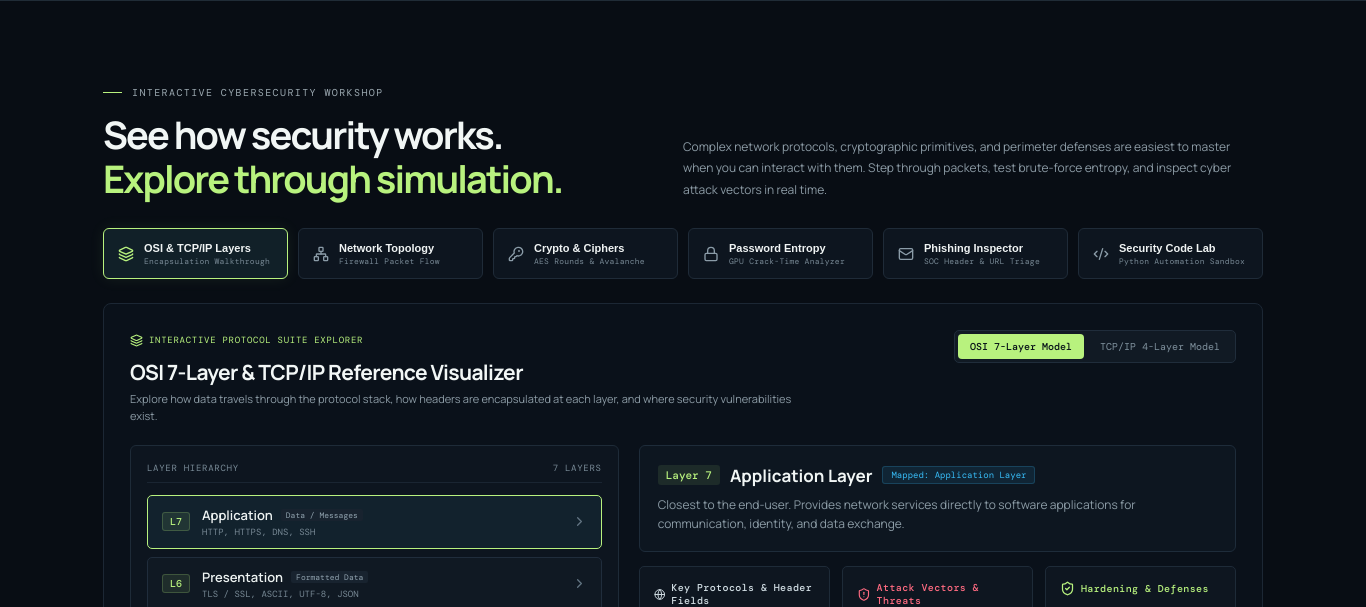
Test: Phase 7: Interactive Visualizers & Learning Experiences › InteractiveVisualizersSection renders all visualizer tabs and allows tab switching
Expected: the text "OSI & TCP/IP Layers" is shown, [144, 242, 251, 254]
Expected: the text "Network Topology" is shown, [339, 241, 440, 256]
// Switch to Password Entropy
Click the tab "Password Entropy GPU Crack-Time Analyzer": (780, 254) [688, 228, 873, 279]
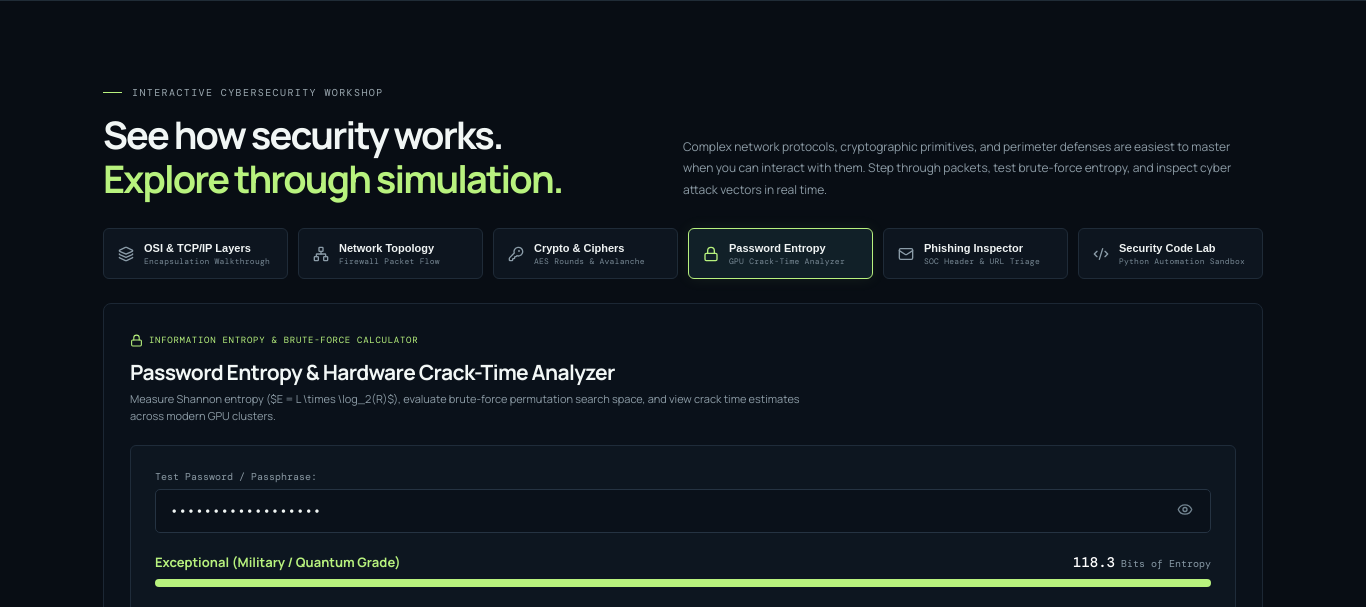
Result: the heading "Password Entropy & Hardware Crack-Time Analyzer" is shown at [130, 358, 615, 386]
// Switch to Phishing Inspector
Click the tab "Phishing Inspector SOC Header & URL Triage": (976, 254) [883, 228, 1068, 279]
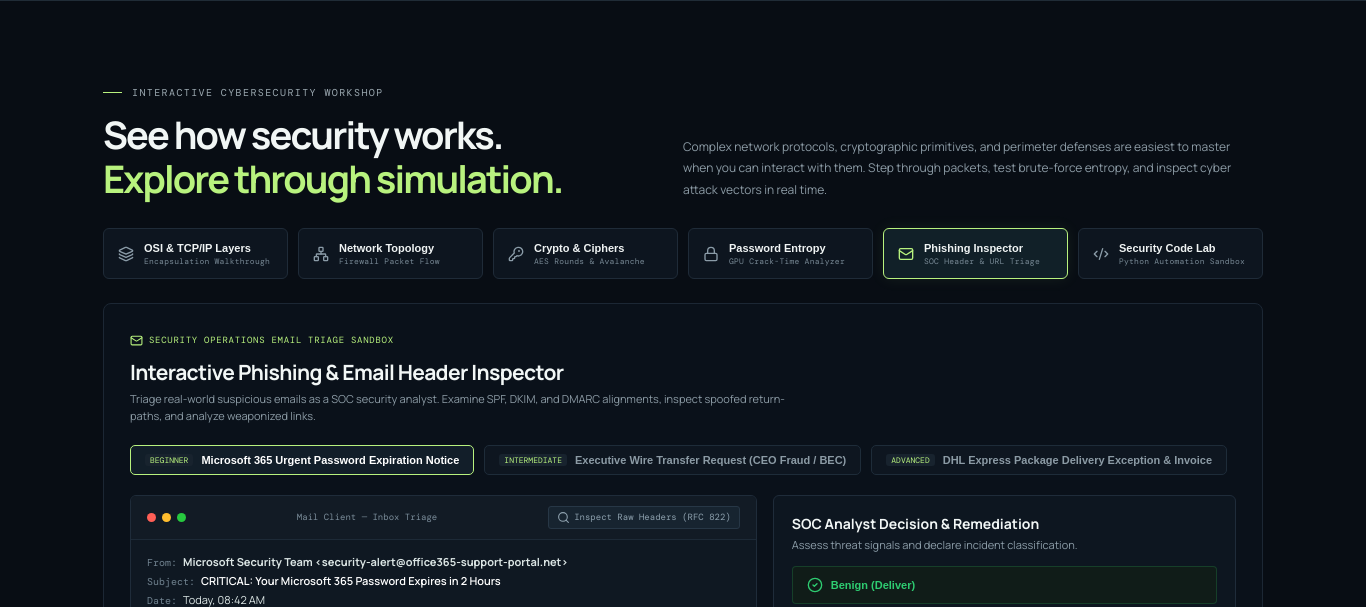
Result: the heading "Interactive Phishing & Email Header Inspector" is shown at [130, 358, 564, 386]
